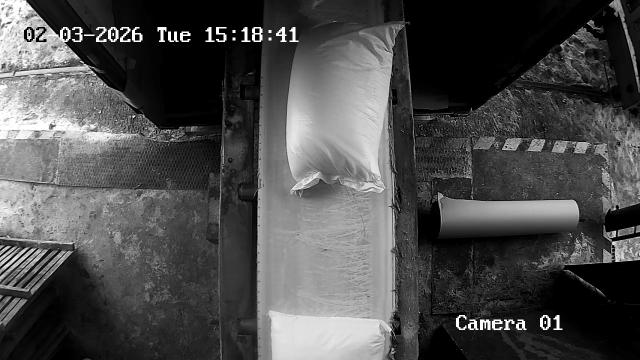bag: (286, 15, 409, 196), (270, 312, 392, 360)
